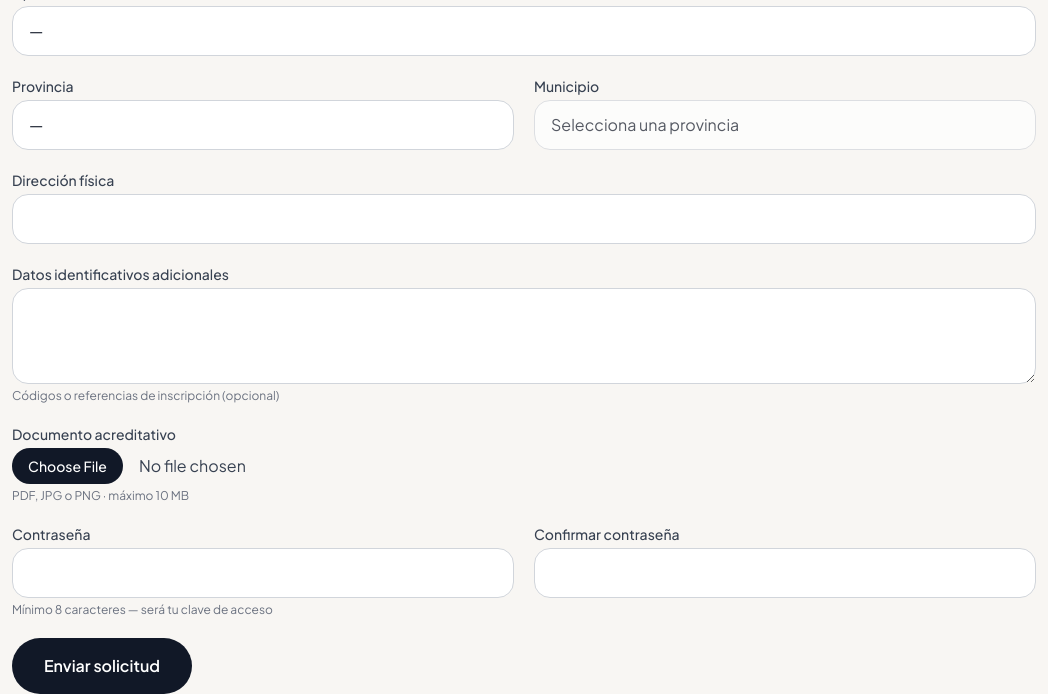
Scenario: CubanRegistrationForm (spec company-registration §registro cubano) › shows the server field errors after submitting
(page scrolled)
Click the button "Enviar solicitud". click: (102,666)
box: left=12, top=638, right=192, bottom=693
(page scrolled)
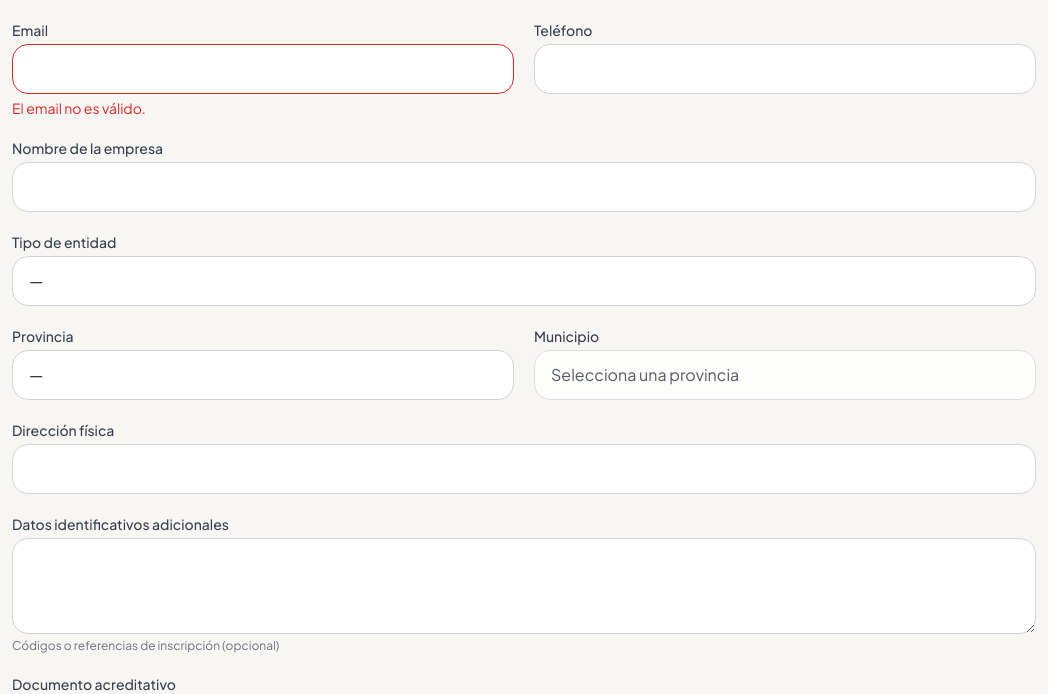
Now the text "El email no es válido." is shown, box left=12, top=99, right=146, bottom=117
